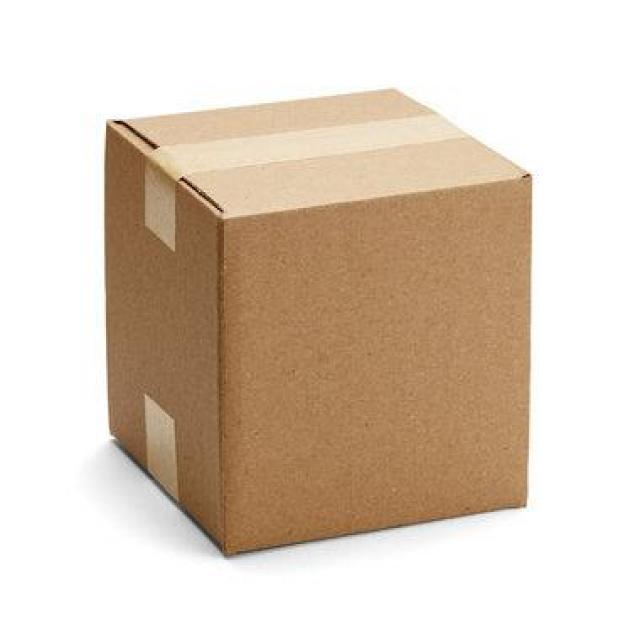box: (94, 70, 540, 568)
